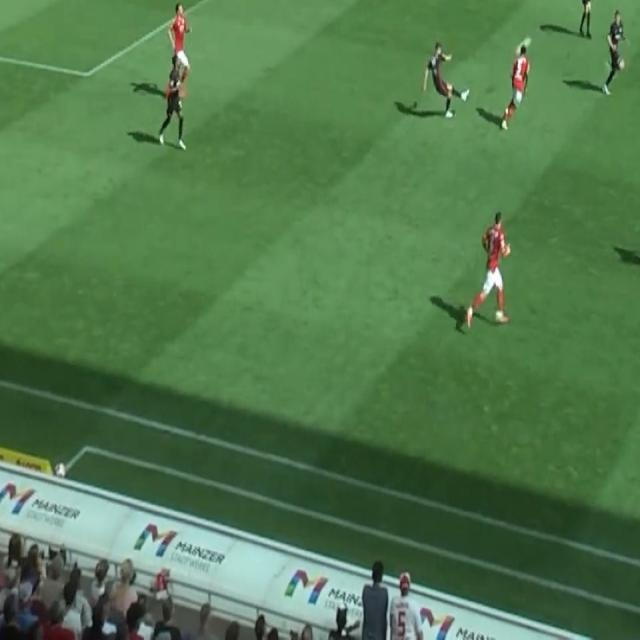ball: (514, 35, 532, 56)
